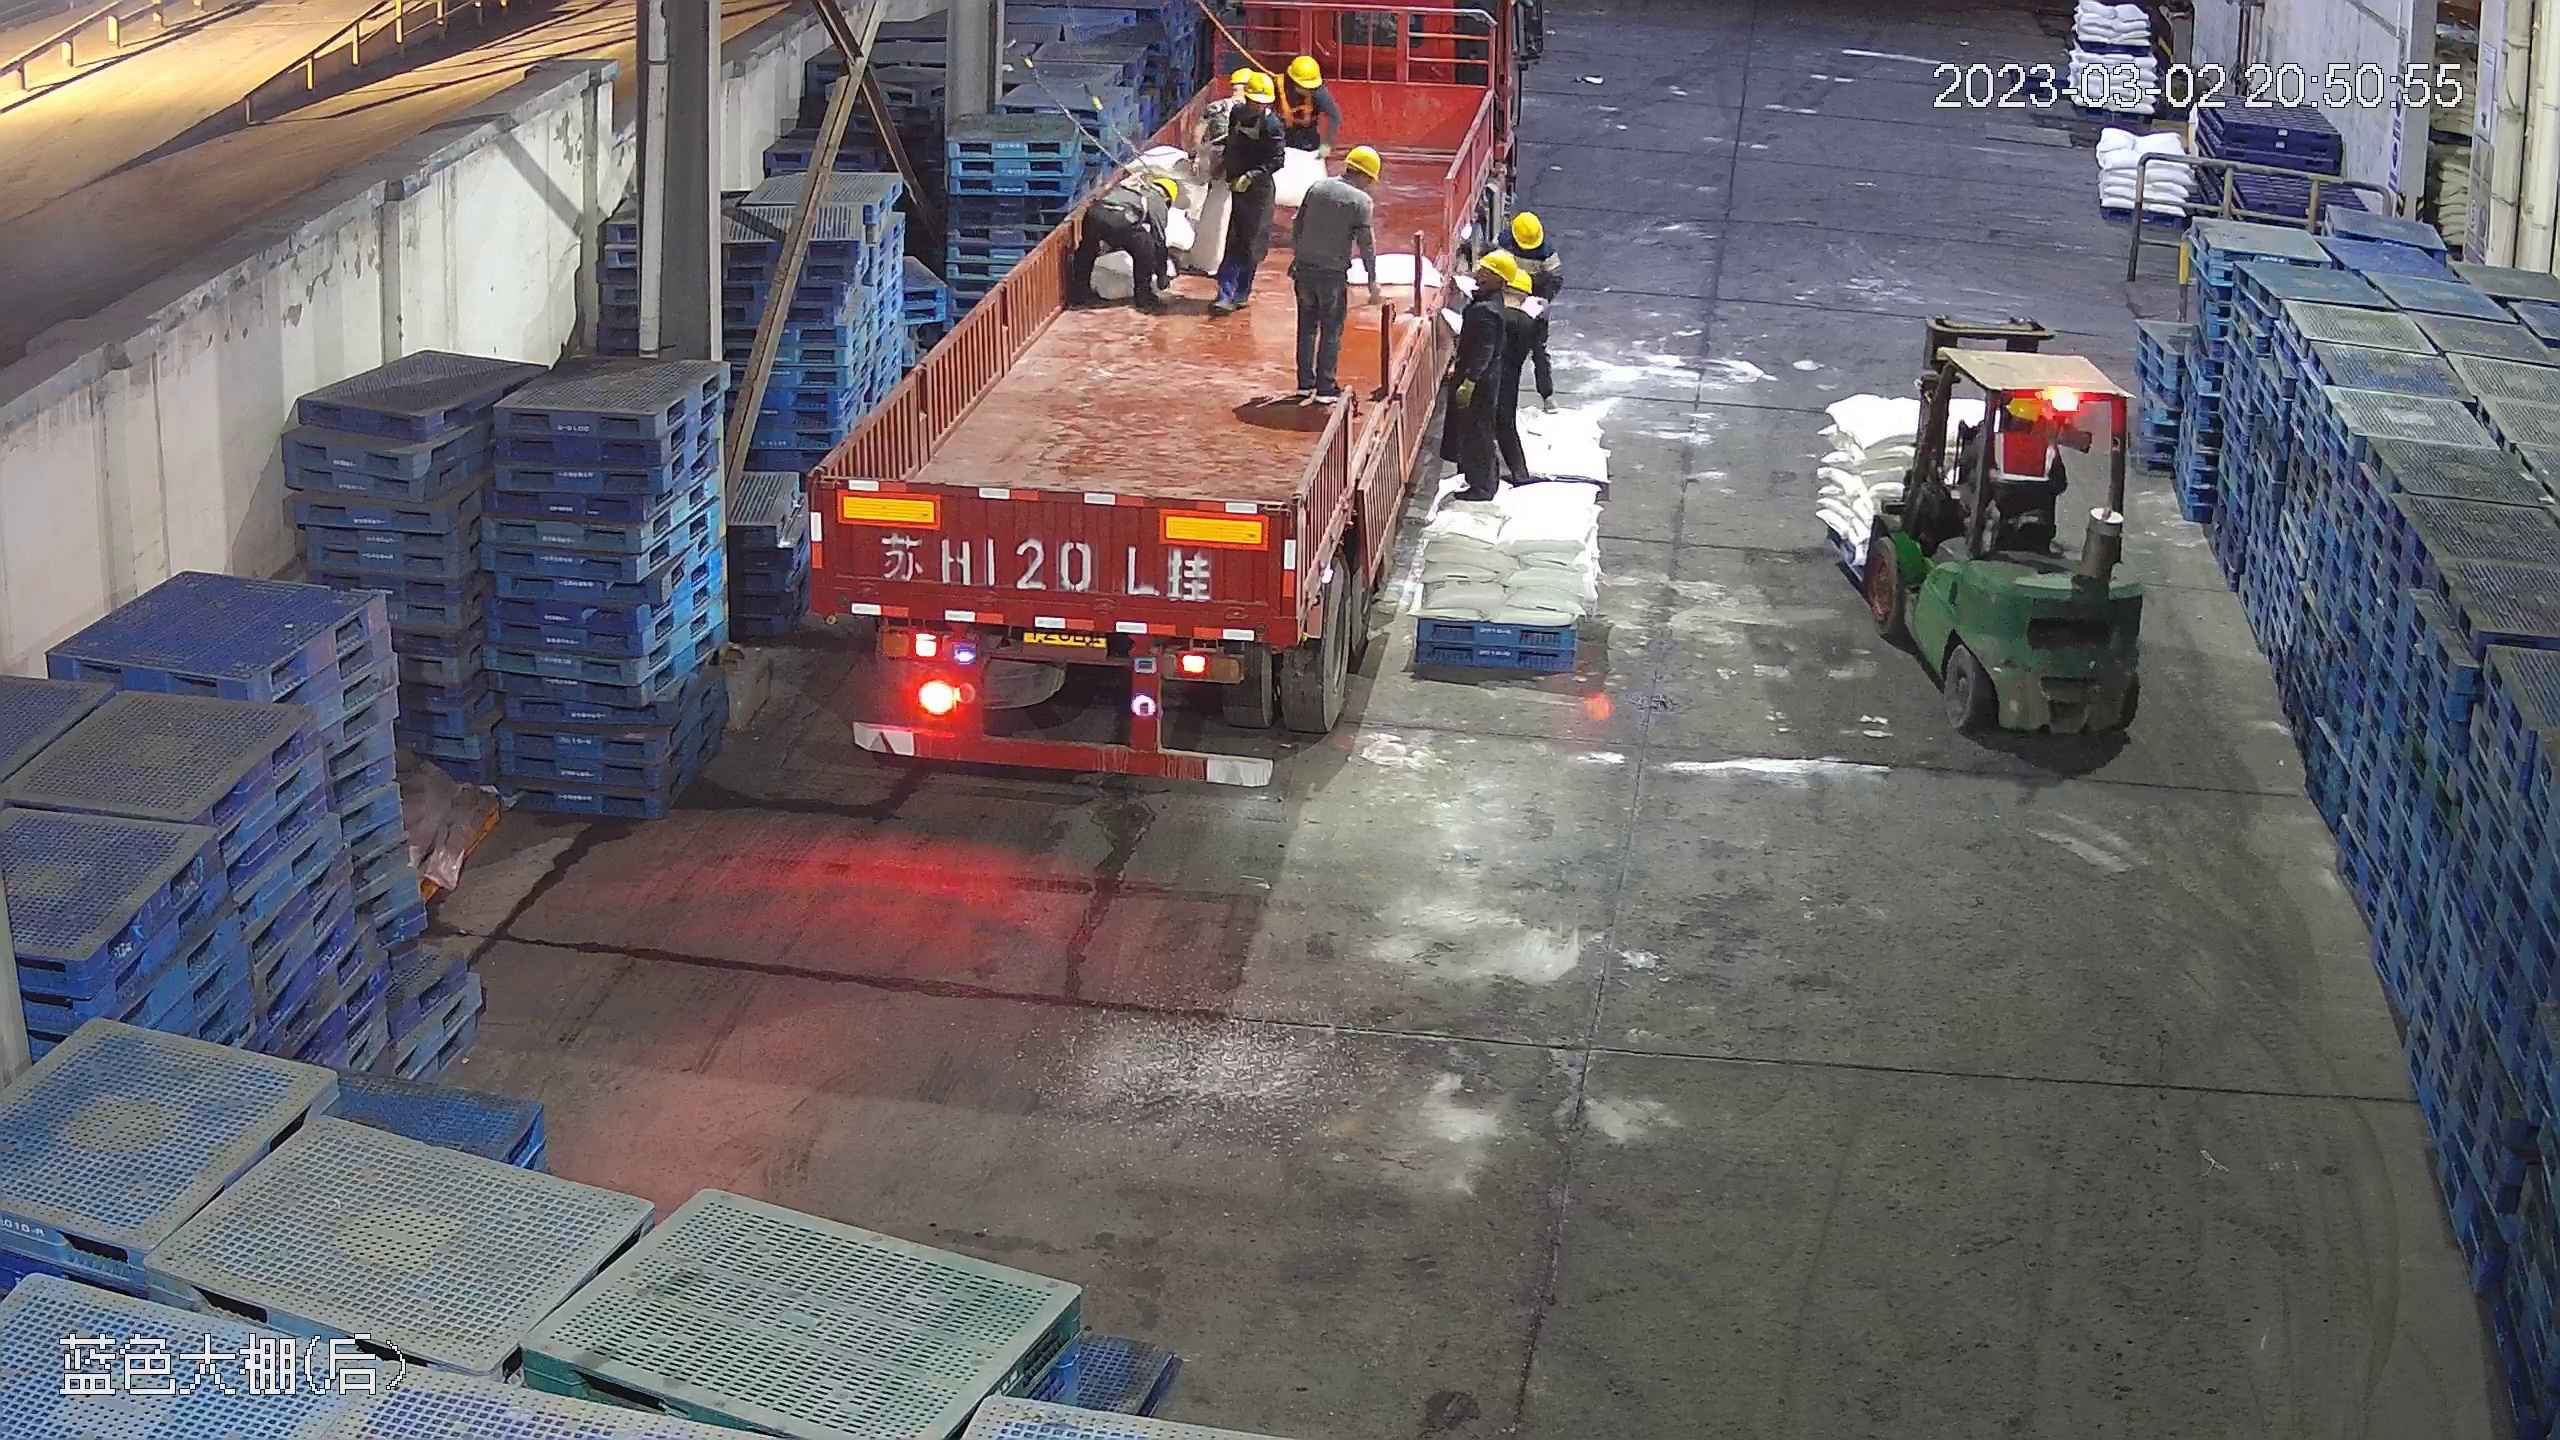belt: (1092, 171, 1154, 232), (1274, 74, 1318, 130), (1206, 94, 1232, 154), (1233, 111, 1265, 143)
head: (1288, 146, 1381, 238), (1441, 251, 1517, 342), (1216, 72, 1286, 155), (1260, 53, 1337, 121), (1488, 211, 1554, 287), (1108, 174, 1180, 227)
helmet: (1340, 144, 1381, 182), (1478, 247, 1518, 285), (1506, 210, 1544, 248), (1144, 169, 1181, 205), (1245, 72, 1276, 105), (1285, 52, 1321, 82), (1512, 268, 1532, 299), (1232, 63, 1255, 88)
people: (1283, 141, 1383, 409), (1440, 249, 1533, 499), (1196, 60, 1284, 313), (1071, 165, 1184, 313)
truck: (806, 1, 1540, 784)
